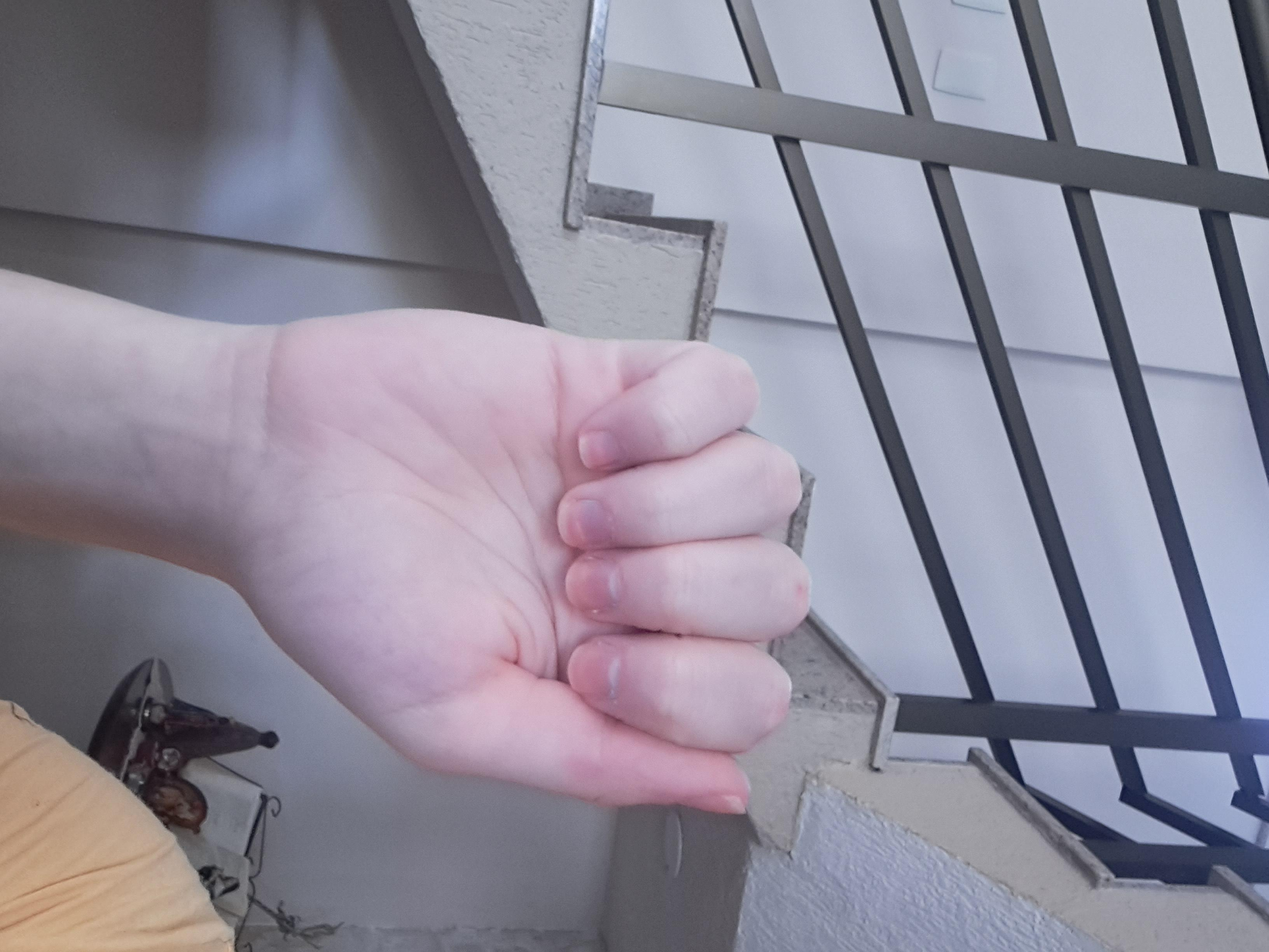A: (415, 344, 1099, 761)
